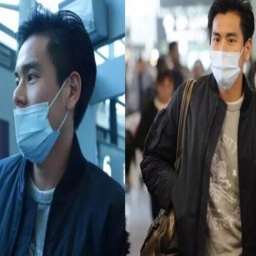correctlyWear: (207, 31, 252, 91)
incorrectlyWear: (11, 56, 82, 164)
